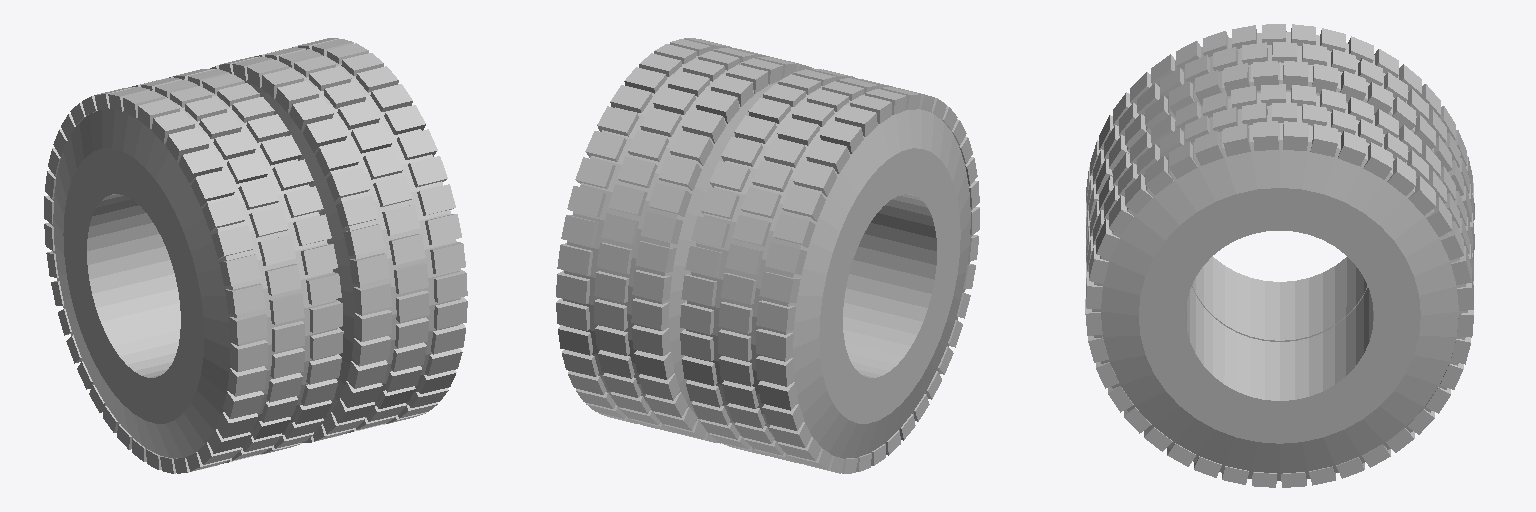
File: ruoteP1A.obj
The picture shows the model from 3 angles: view 1: azimuth 30°, elevation 25°; view 2: azimuth 150°, elevation 25°; view 3: azimuth 270°, elevation 25°; orthographic projection.
Visible parts, largest first — view 1: Tube11, Box1137, Box1138, Tube12; view 2: Tube11, Box1137, Box1138, Tube12; view 3: Tube12, Box1138, Box1137, Tube11.
Part boxes in pixels (bbox=[...]): Tube11: bbox=[51, 85, 337, 458]; Box1137: bbox=[44, 69, 343, 473]; Box1138: bbox=[210, 38, 467, 442]; Tube12: bbox=[245, 55, 460, 423]; Tube11: bbox=[686, 86, 972, 458]; Box1137: bbox=[680, 69, 979, 473]; Box1138: bbox=[556, 38, 813, 443]; Tube12: bbox=[563, 56, 778, 420]; Tube12: bbox=[1092, 92, 1467, 480]; Box1138: bbox=[1085, 84, 1473, 487]; Box1137: bbox=[1086, 24, 1474, 249]; Tube11: bbox=[1112, 32, 1448, 341].
Size of the model in its own units: 8.76 by 12.08 by 12.08.